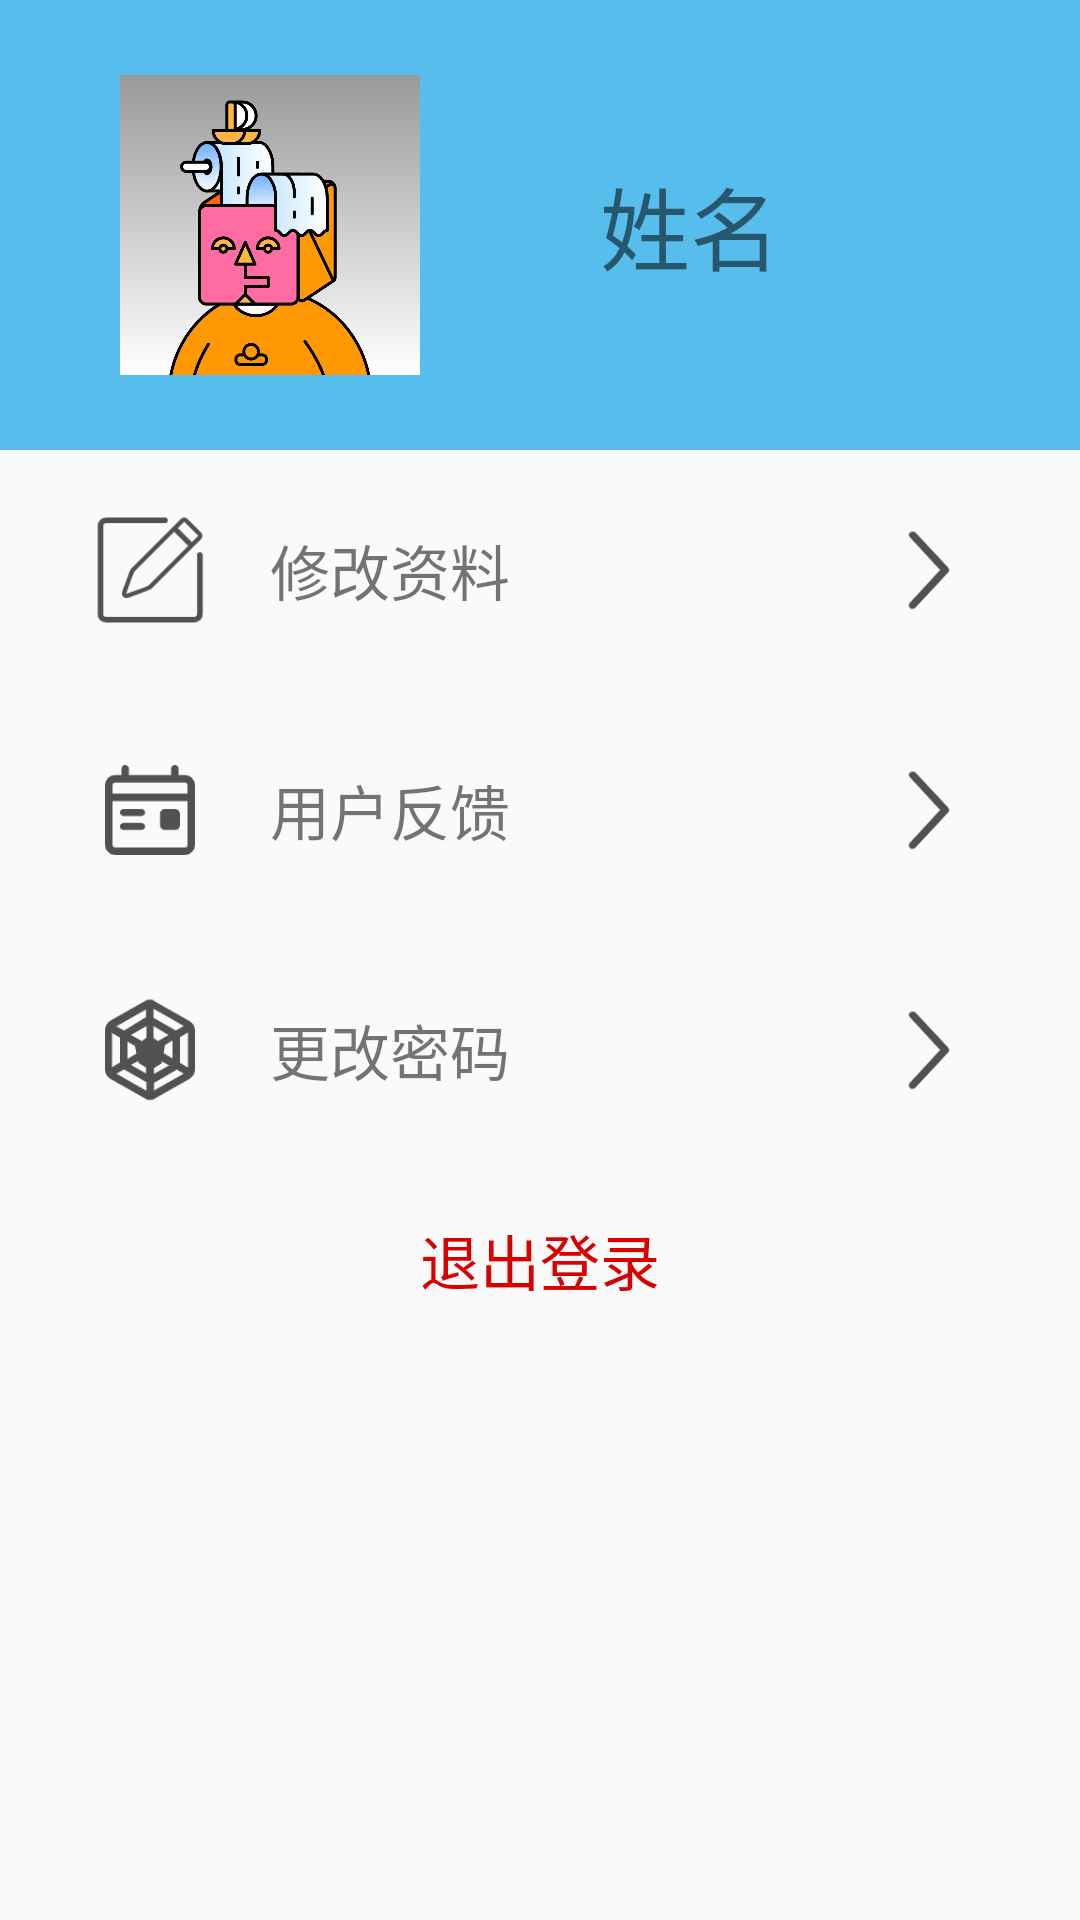

Point at icon controls on the screen. Image size 1080*1920, points as (x,y).
xiugaiziliao: (150,570)
youbian: (929,570), (929,810), (929,1050)
